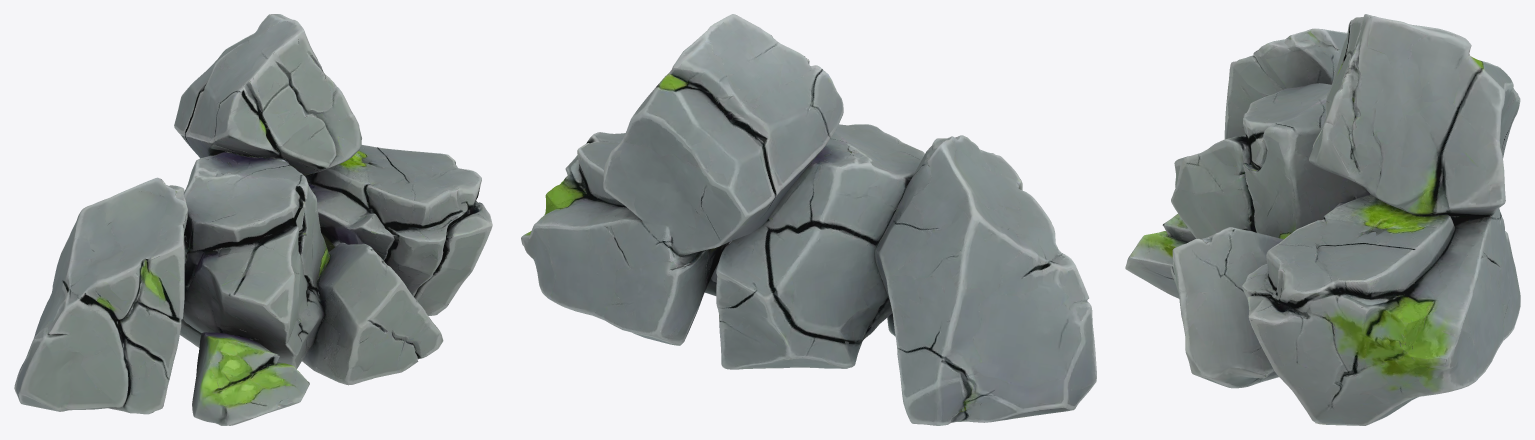
The model's file is rocks_web.glb.
3 renders of one model, left to right at view 1: azimuth 30°, elevation 25°; view 2: azimuth 150°, elevation 25°; view 3: azimuth 270°, elevation 25°, orthographic. The views are drawn at different scales.
Size of the model in its own units: 1.9 by 1.15 by 1.2.
1 material, 1 textured.
